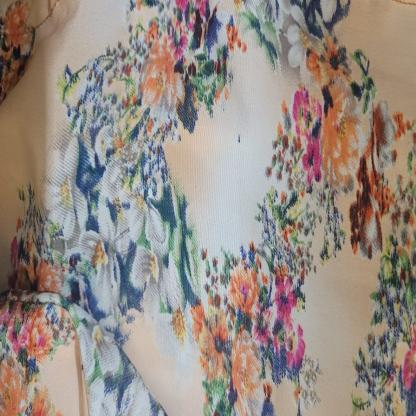spot: (237, 125, 245, 151)
